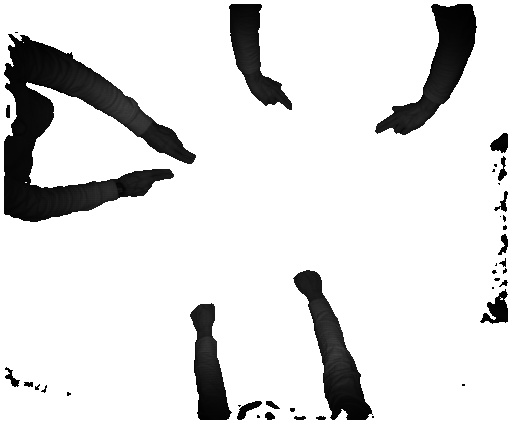fist: (288, 264, 328, 299), (184, 296, 215, 333)
hand: (150, 117, 199, 167), (368, 102, 431, 135), (122, 168, 175, 199), (249, 77, 295, 111)
